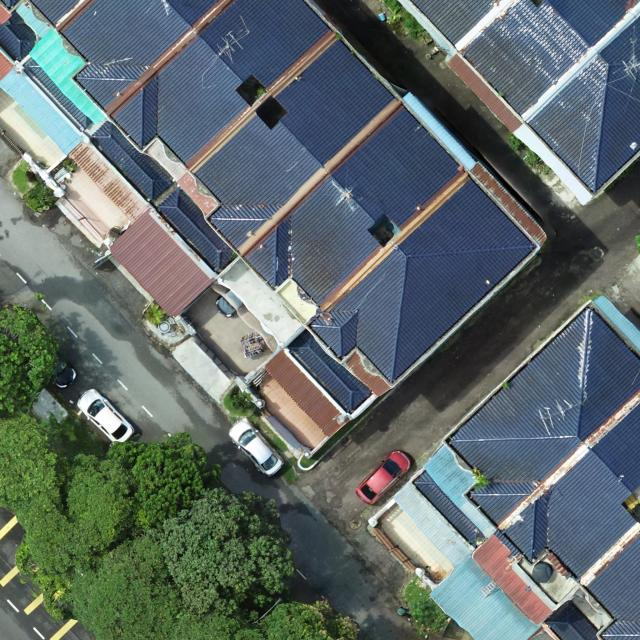Tree: (147, 487, 296, 613), (69, 536, 242, 640), (105, 431, 224, 534), (11, 484, 96, 620), (62, 452, 137, 554), (0, 301, 59, 414), (0, 412, 65, 510), (232, 594, 359, 640), (408, 600, 436, 627)
